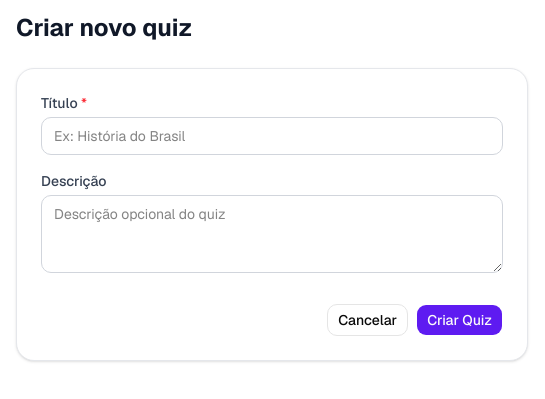
Scenario: CreateQuizPage › when title is empty › should show inline validation error
Step 1. Click the button with test id "btn-submit-create-quiz" → (460, 320), box [416, 304, 503, 336]
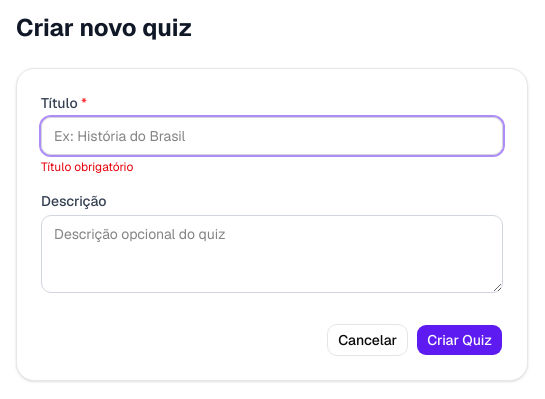
Expected: the text "Título obrigatório" is shown, [41, 159, 133, 175]
